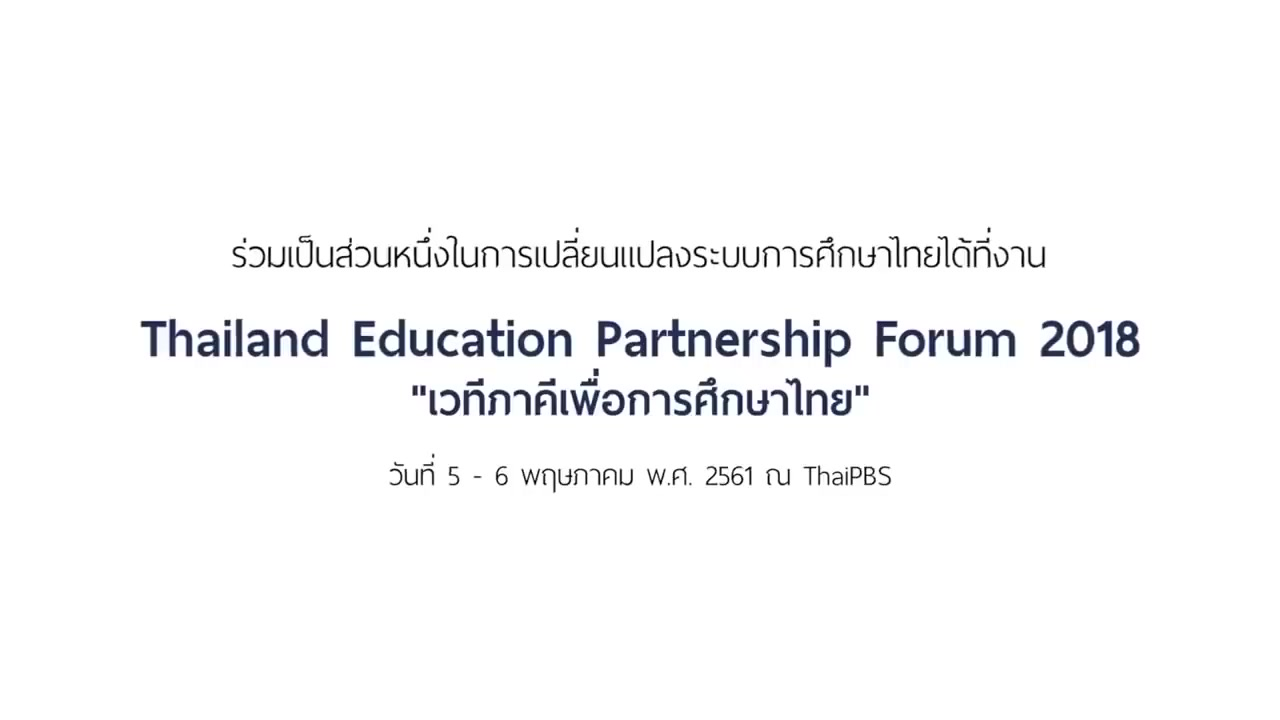text-label: (138, 312, 1144, 369), (228, 222, 1052, 274), (410, 366, 871, 422), (381, 452, 894, 492)
